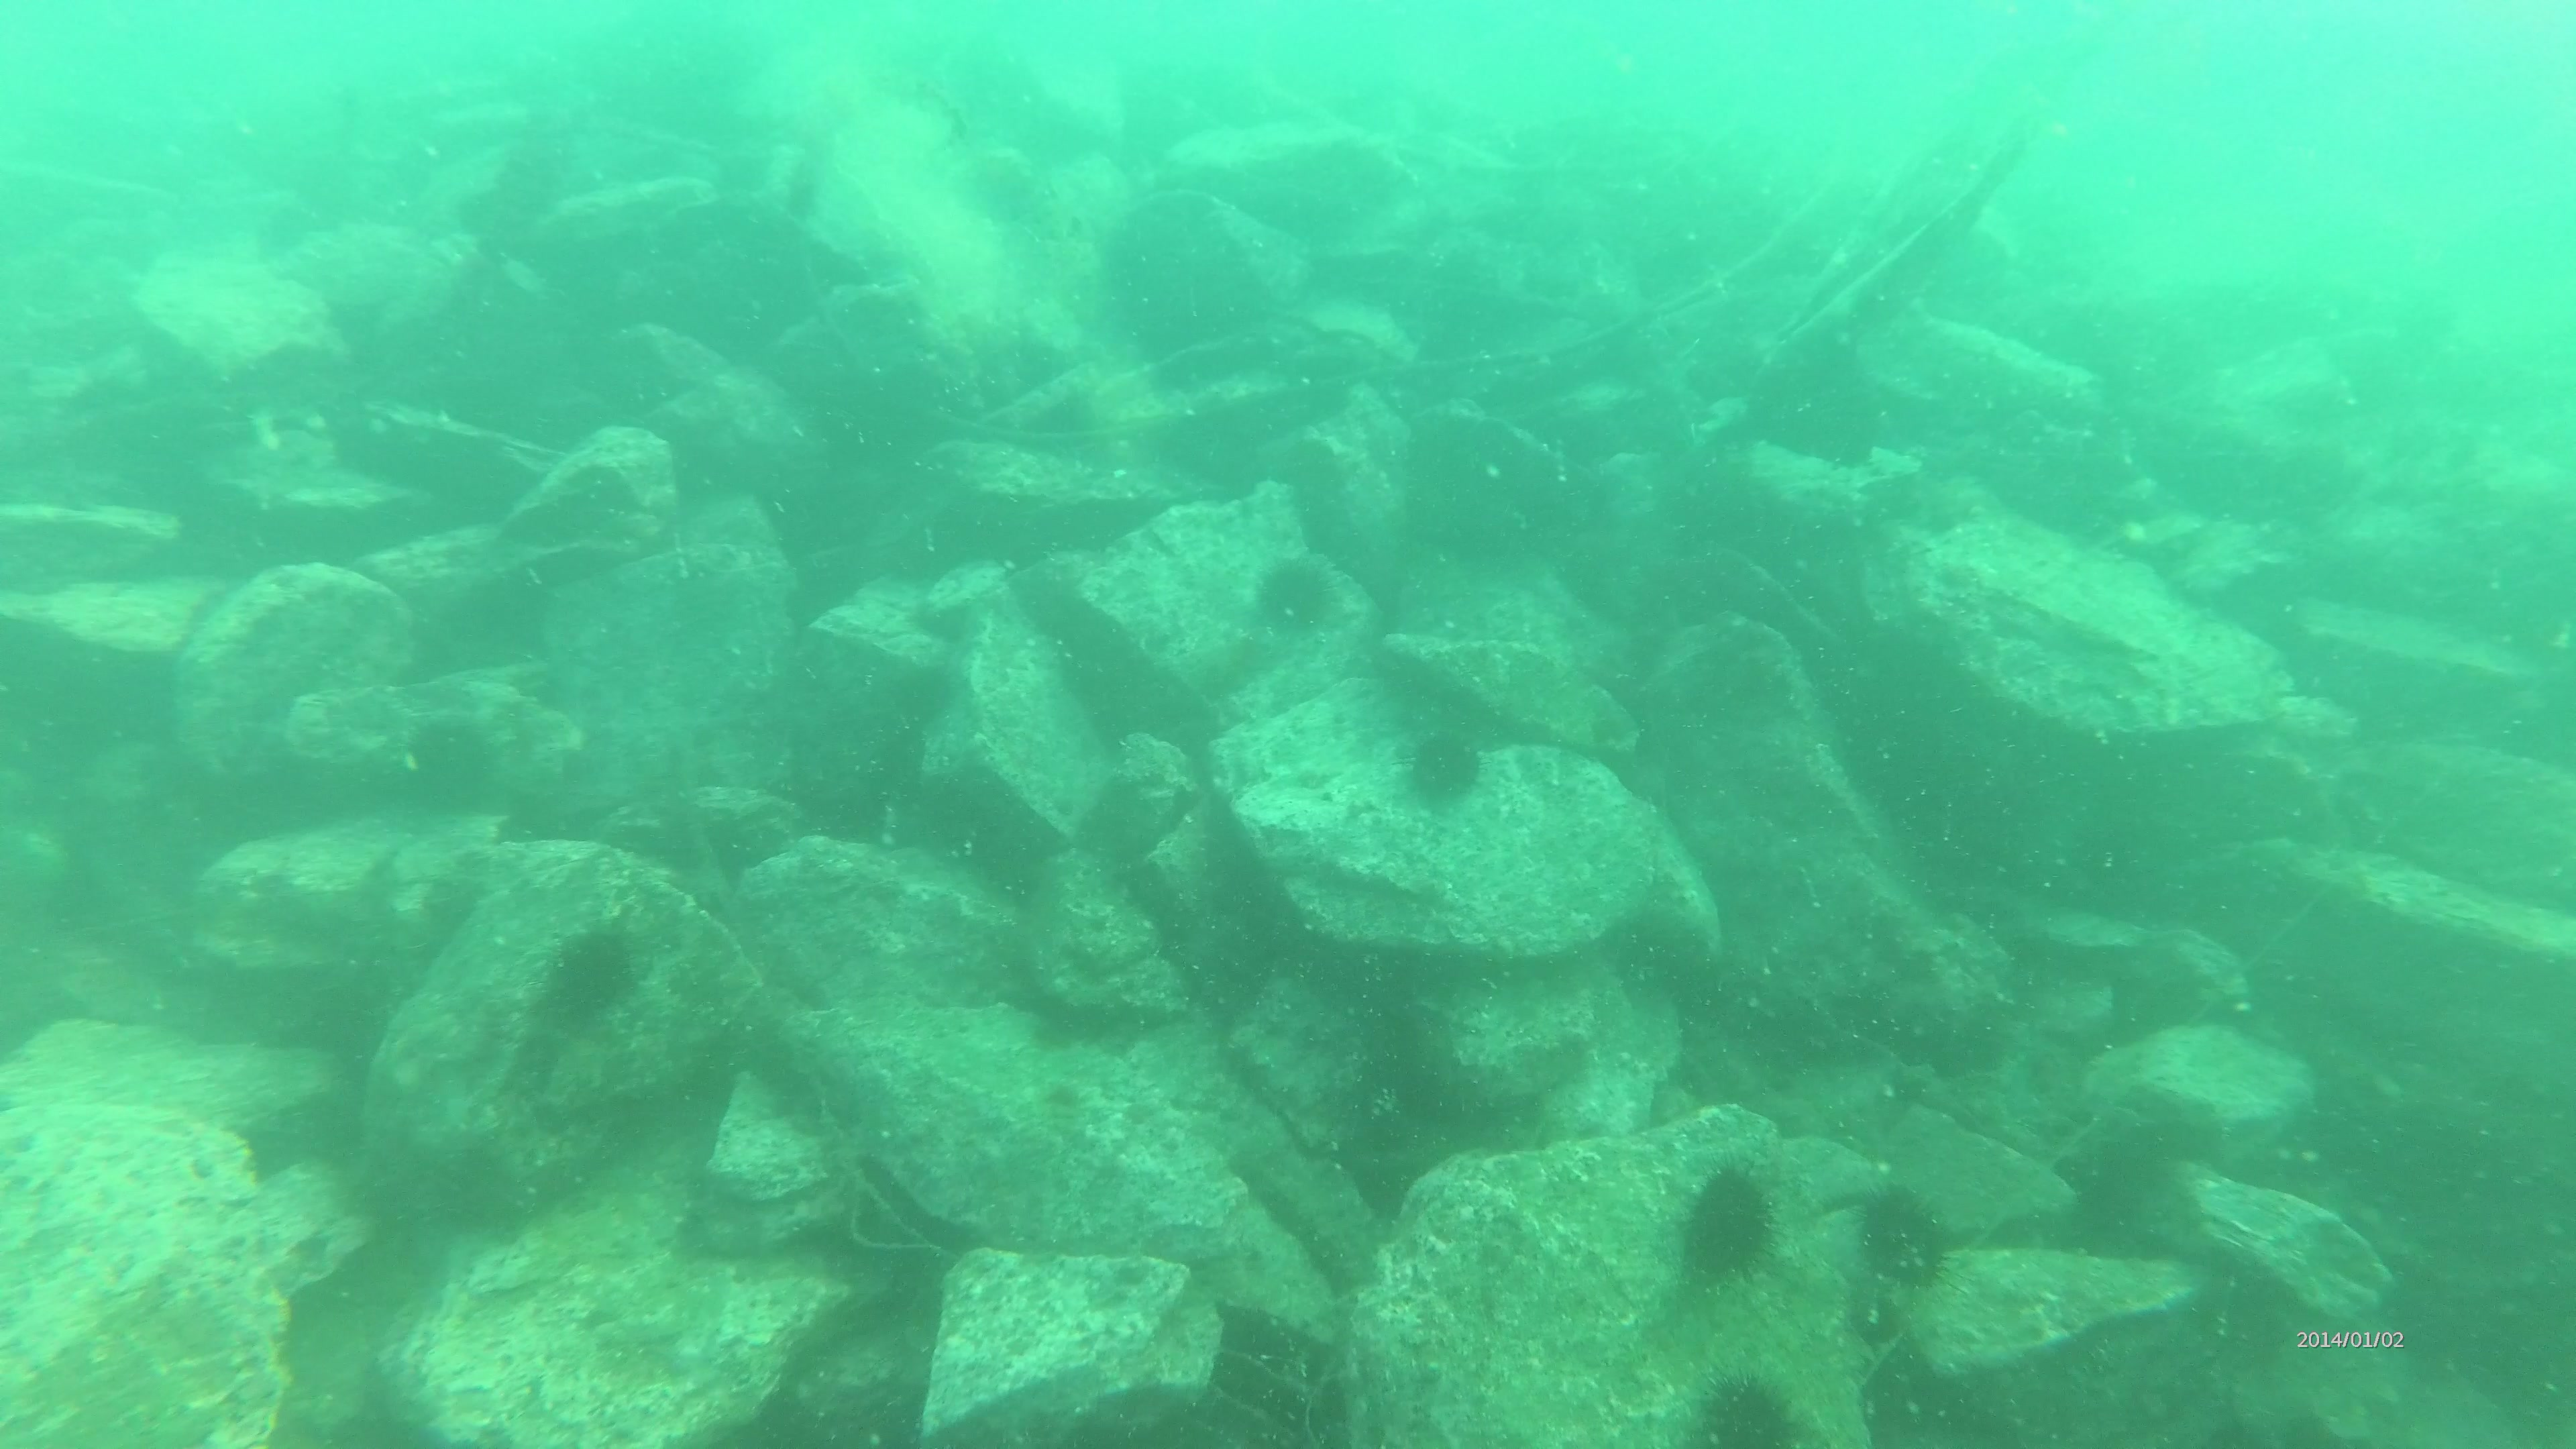echinus: (1683, 1146, 1782, 1288), (1691, 1359, 1826, 1449), (1858, 1171, 1953, 1283), (1244, 550, 1350, 639), (538, 920, 633, 1008), (1399, 718, 1500, 800)
